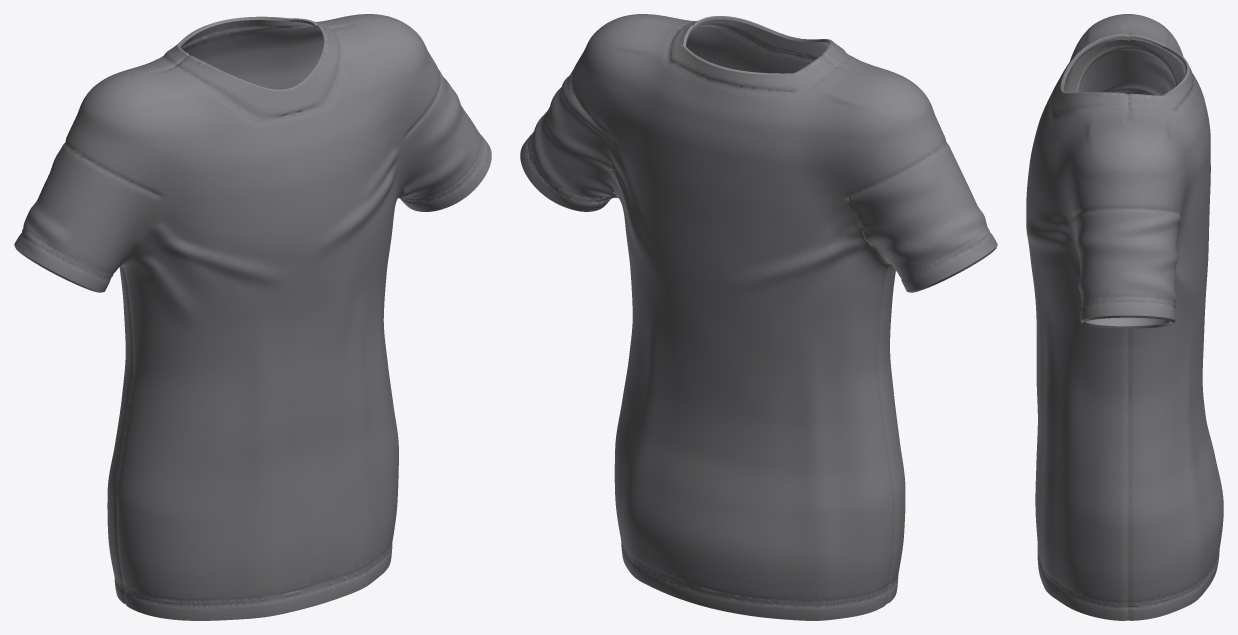
File: 03_camiseta_slim_pbr.glb
The picture shows the model from 3 angles, left to right: view 1: azimuth 30°, elevation 25°; view 2: azimuth 150°, elevation 25°; view 3: azimuth 270°, elevation 25°; orthographic projection. The views are drawn at different scales.
Visible parts, largest first — view 1: Camiseta PBR; view 2: Camiseta PBR; view 3: Camiseta PBR.
Boxes of the visible parts, bbox=[...] form: Camiseta PBR: bbox=[14, 14, 491, 620]; Camiseta PBR: bbox=[520, 14, 997, 620]; Camiseta PBR: bbox=[1026, 14, 1223, 620].
Bounding box in the file's own units: 0.6351 × 0.7052 × 0.2524.
1 material, 1 textured.
